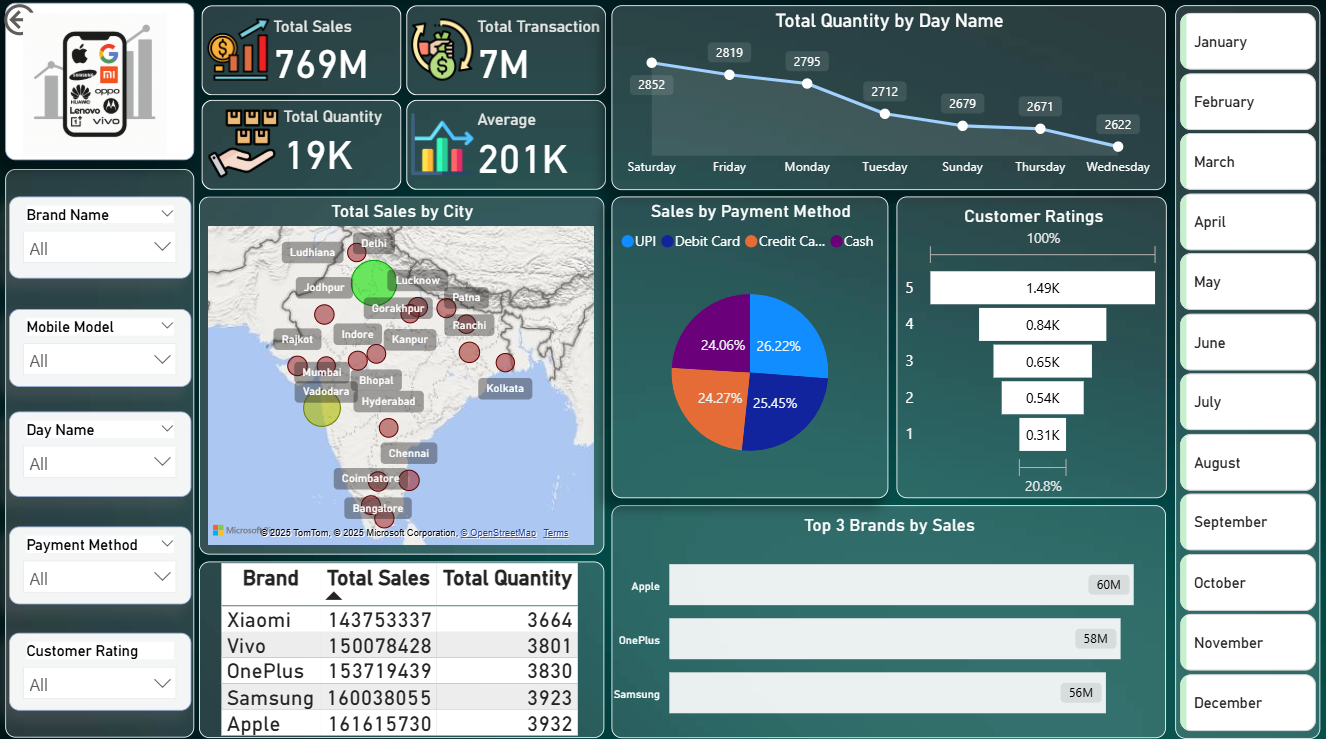

This screenshot's page, from the dashboard's own definition file:
{"tool":"powerbi","page":{"name":"Dashboard","canvas":[1280,720],"ordinal":0},"visuals":[{"type":"shape","box":[5.5,164.7,182.5,548.9],"z":0},{"type":"shape","box":[1134.8,5.5,140,708.1],"z":1000},{"type":"shape","box":[5.5,4.1,182.5,152.3],"z":2000},{"type":"cardVisual","title":"Total Sales","fields":{"Data":["Sheet1.total sales","Sheet1.Total Transactions","Sheet1.Total Quantity","Sheet1.Average"]},"box":[190.7,1.4,400.7,189.4],"z":3000},{"type":"lineChart","fields":{"Y":["Sheet1.Total Quantity"],"Category":["Sheet1.Day Name"]},"box":[591.4,5.5,535.2,178.4],"z":4000},{"type":"map","fields":{"Category":["Sheet1.City"],"Size":["Sheet1.Total Sales"]},"box":[193.5,190.7,391.1,345.8],"z":5000},{"type":"barChart","title":"Top 3 Brands by Sales","fields":{"Category":["Sheet1.Brand"],"Y":["Sheet1.Total Sales"]},"box":[591.4,488.5,535.2,225],"z":6000},{"type":"pieChart","title":"Sales by Payment Method","fields":{"Category":["Sheet1.Payment Method"],"Y":["Sheet1.total sales"]},"box":[591.4,190.7,267.6,290.9],"z":7000},{"type":"tableEx","fields":{"Values":["Sheet1.Brand","Sheet1.Total Sales","Sheet1.Total Quantity"]},"box":[193.5,543.4,391.1,170.2],"z":8000},{"type":"funnel","title":"Customer Ratings","fields":{"Category":["Sheet1.Customer Ratings"],"Y":["CountNonNull(Sheet1.Customer Ratings)"]},"box":[865.9,190.7,260.7,290.9],"z":9000},{"type":"slicer","fields":{"Values":["Sheet1.Brand"]},"box":[9.6,190.7,175.6,79.6],"z":10000},{"type":"actionButton","box":[0,0,100,40],"z":11000},{"type":"slicer","fields":{"Values":["Sheet1.Payment Method"]},"box":[9.6,509.1,175.6,75.5],"z":12000},{"type":"slicer","fields":{"Values":["Sheet1.Day Name"]},"box":[9.6,397.9,175.6,82.3],"z":13000},{"type":"slicer","fields":{"Values":["Sheet1.Mobile Model"]},"box":[9.6,299.1,175.6,75.5],"z":14000},{"type":"slicer","fields":{"Values":["Sheet1.Customer Ratings"]},"box":[9.6,612,175.6,75.5],"z":15000},{"type":"advancedSlicerVisual","fields":{"Values":["Sheet1.Date.Variation.Date Hierarchy.Month"]},"box":[1134.8,8.2,141.3,703.9],"z":16000},{"type":"image","box":[0,8.2,185.2,148.2],"z":17000}]}

Visuals, with their boxes in screenshot pixels (x1, y1, x2, y2), scaled from the page's 1280x720 canvas onto the 1326x739 screenshot:
shape: [6,169,195,732]
shape: [1176,6,1321,732]
shape: [6,4,195,161]
"Total Sales" cardVisual: [198,1,613,196]
lineChart - Sheet1.Total Quantity x Sheet1.Day Name: [613,6,1167,189]
map - Sheet1.City x Sheet1.Total Sales: [200,196,606,551]
"Top 3 Brands by Sales" barChart: [613,501,1167,732]
"Sales by Payment Method" pieChart: [613,196,890,494]
tableEx - Sheet1.Brand x Sheet1.Total Sales: [200,558,606,732]
"Customer Ratings" funnel: [897,196,1167,494]
slicer - Sheet1.Brand: [10,196,192,277]
actionButton: [0,0,104,41]
slicer - Sheet1.Payment Method: [10,523,192,600]
slicer - Sheet1.Day Name: [10,408,192,493]
slicer - Sheet1.Mobile Model: [10,307,192,384]
slicer - Sheet1.Customer Ratings: [10,628,192,706]
advancedSlicerVisual - Sheet1.Date.Variation.Date Hierarchy.Month: [1176,8,1322,731]
image: [0,8,192,161]
